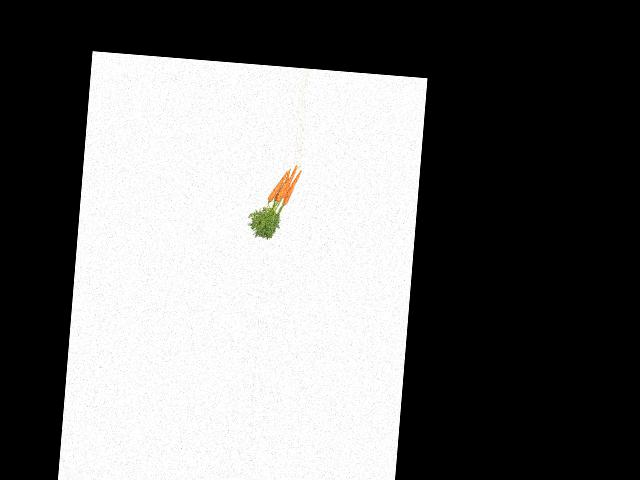carrot: (280, 167, 306, 208)
